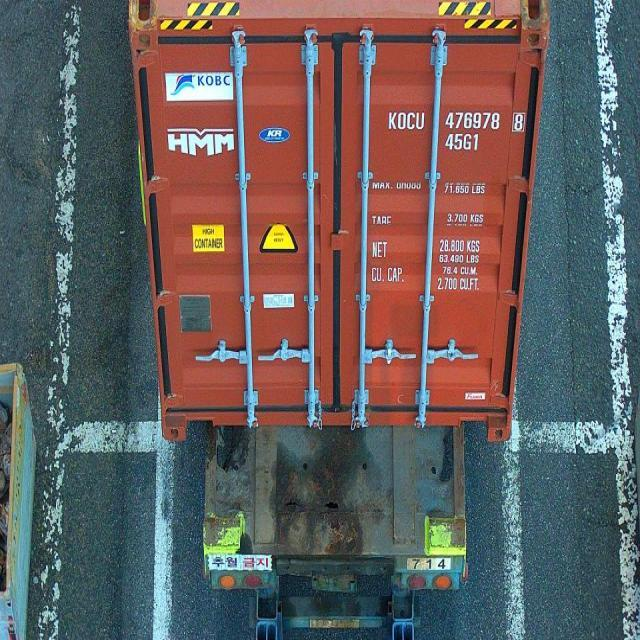ISO: (446, 133, 482, 152)
container_number: (388, 112, 521, 130)
